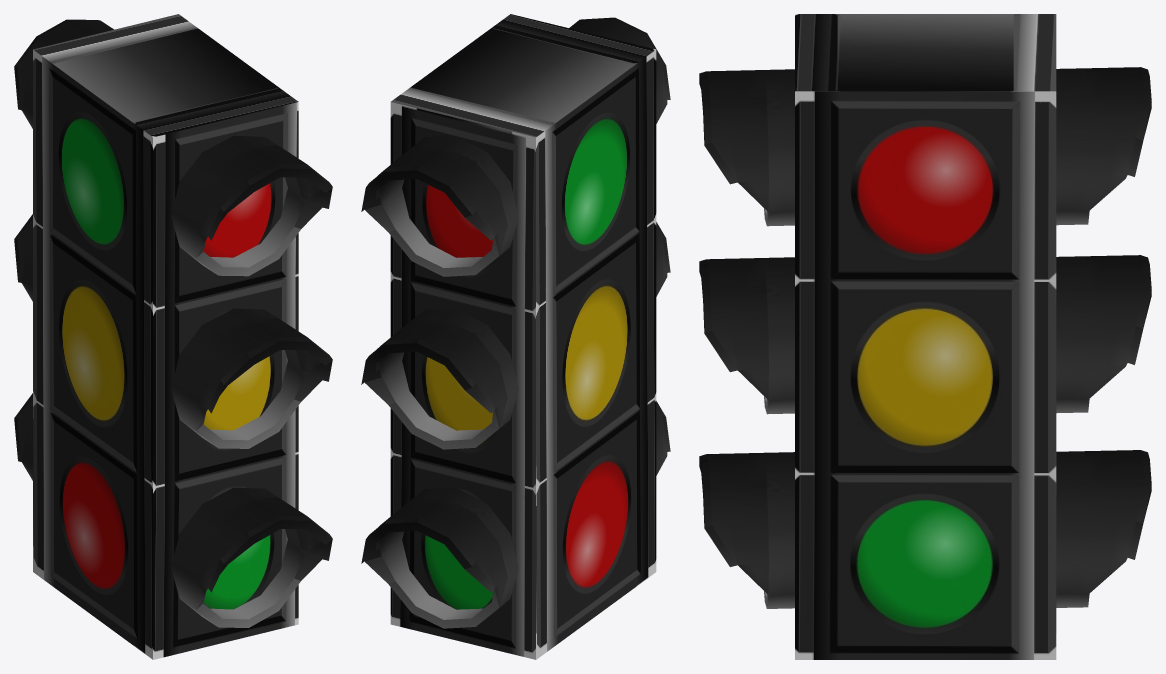
File: trafic light.FBX
The picture shows the model from 3 angles, left to right: view 1: azimuth 30°, elevation 25°; view 2: azimuth 150°, elevation 25°; view 3: azimuth 270°, elevation 25°; orthographic projection. The views are drawn at different scales.
Parts seen in each view (by area): view 1: Box001; view 2: Box001; view 3: Box001.
Part boxes in pixels (x1,y1,x2,y2): Box001: (14, 14, 332, 659); Box001: (361, 14, 670, 659); Box001: (699, 14, 1151, 659).
Bounding box in the file's own units: 3.51 × 12 × 8.66.
